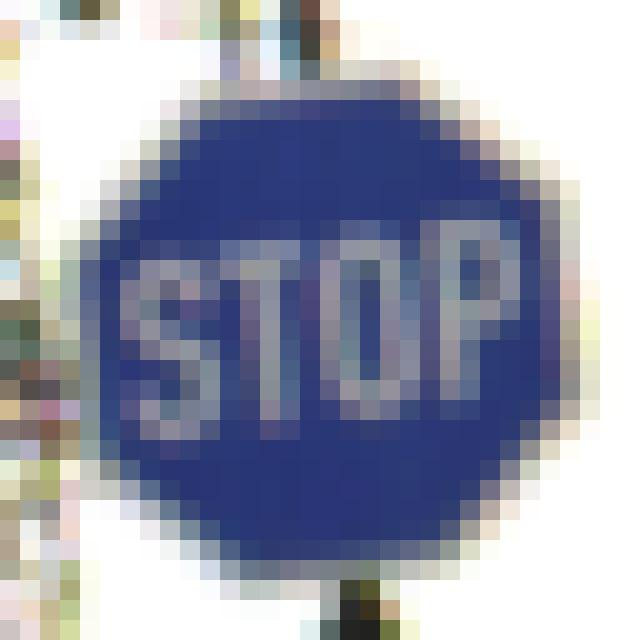STOP: (100, 96, 555, 560)
